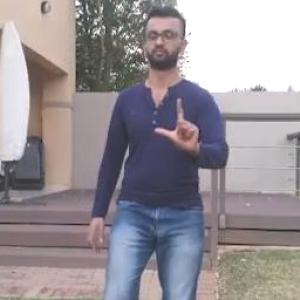land_hand: (148, 91, 205, 162)
